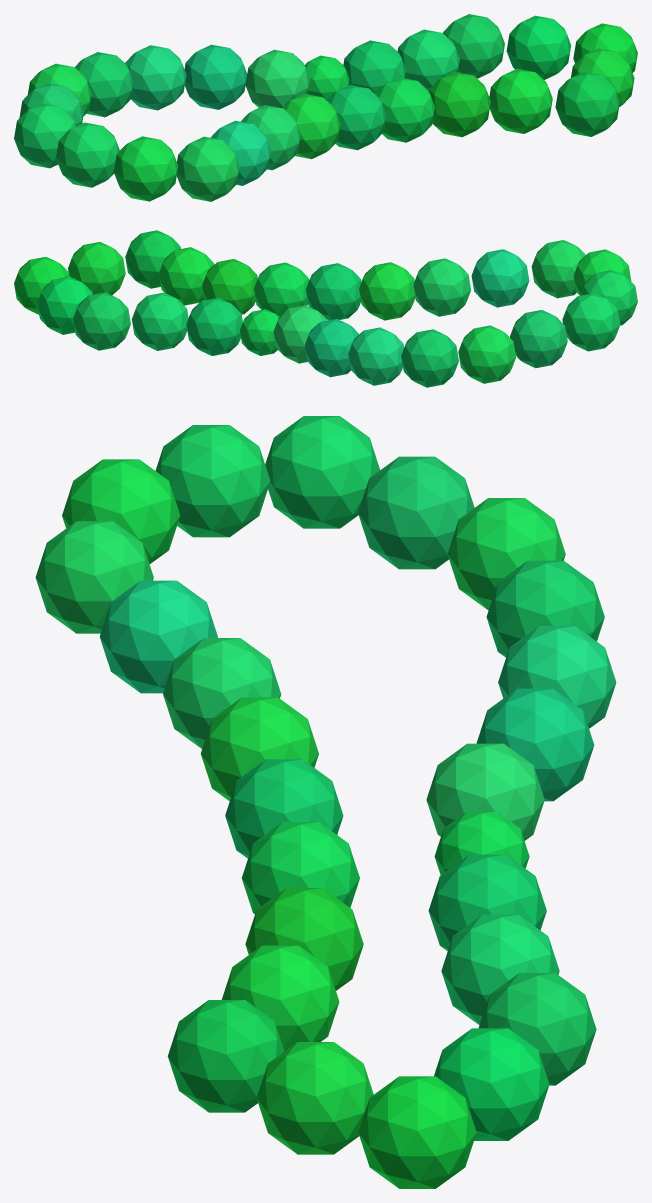
The model's file is Bead$9.fbx.
The picture shows the model from 3 angles, top to bottom: view 1: azimuth 30°, elevation 25°; view 2: azimuth 150°, elevation 25°; view 3: azimuth 270°, elevation 25°; orthographic projection. The views are drawn at different scales.
Visible parts, largest first — view 1: Icosphere.024; view 2: Icosphere.024; view 3: Icosphere.024.
Boxes of the visible parts, x1=… form: Icosphere.024: x1=14, y1=14, x2=637, y2=201; Icosphere.024: x1=14, y1=230, x2=637, y2=387; Icosphere.024: x1=35, y1=416, x2=616, y2=1188.
Bounding box in the file's own units: 1388 × 297 × 609.
